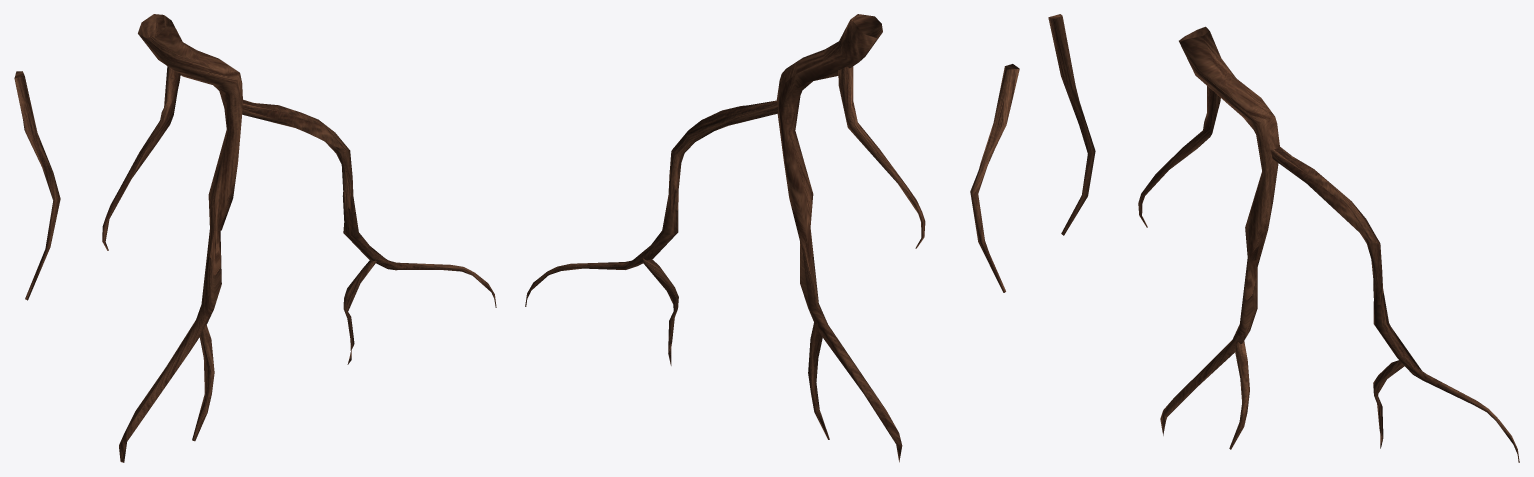
File: wallroots3.FBX
3 renders of one model, left to right at view 1: azimuth 30°, elevation 25°; view 2: azimuth 150°, elevation 25°; view 3: azimuth 330°, elevation 25°, orthographic. The views are drawn at different scales.
Visible parts, largest first — view 1: Line001; view 2: Line001; view 3: Line001.
Boxes of the visible parts, left/top/right/bottom form: Line001: left=14, top=14, right=496, bottom=462; Line001: left=525, top=14, right=1019, bottom=462; Line001: left=1048, top=14, right=1519, bottom=462.
Bounding box in the file's own units: 364 × 309 × 23.03.
Materials: 1 (1 with a texture image).
